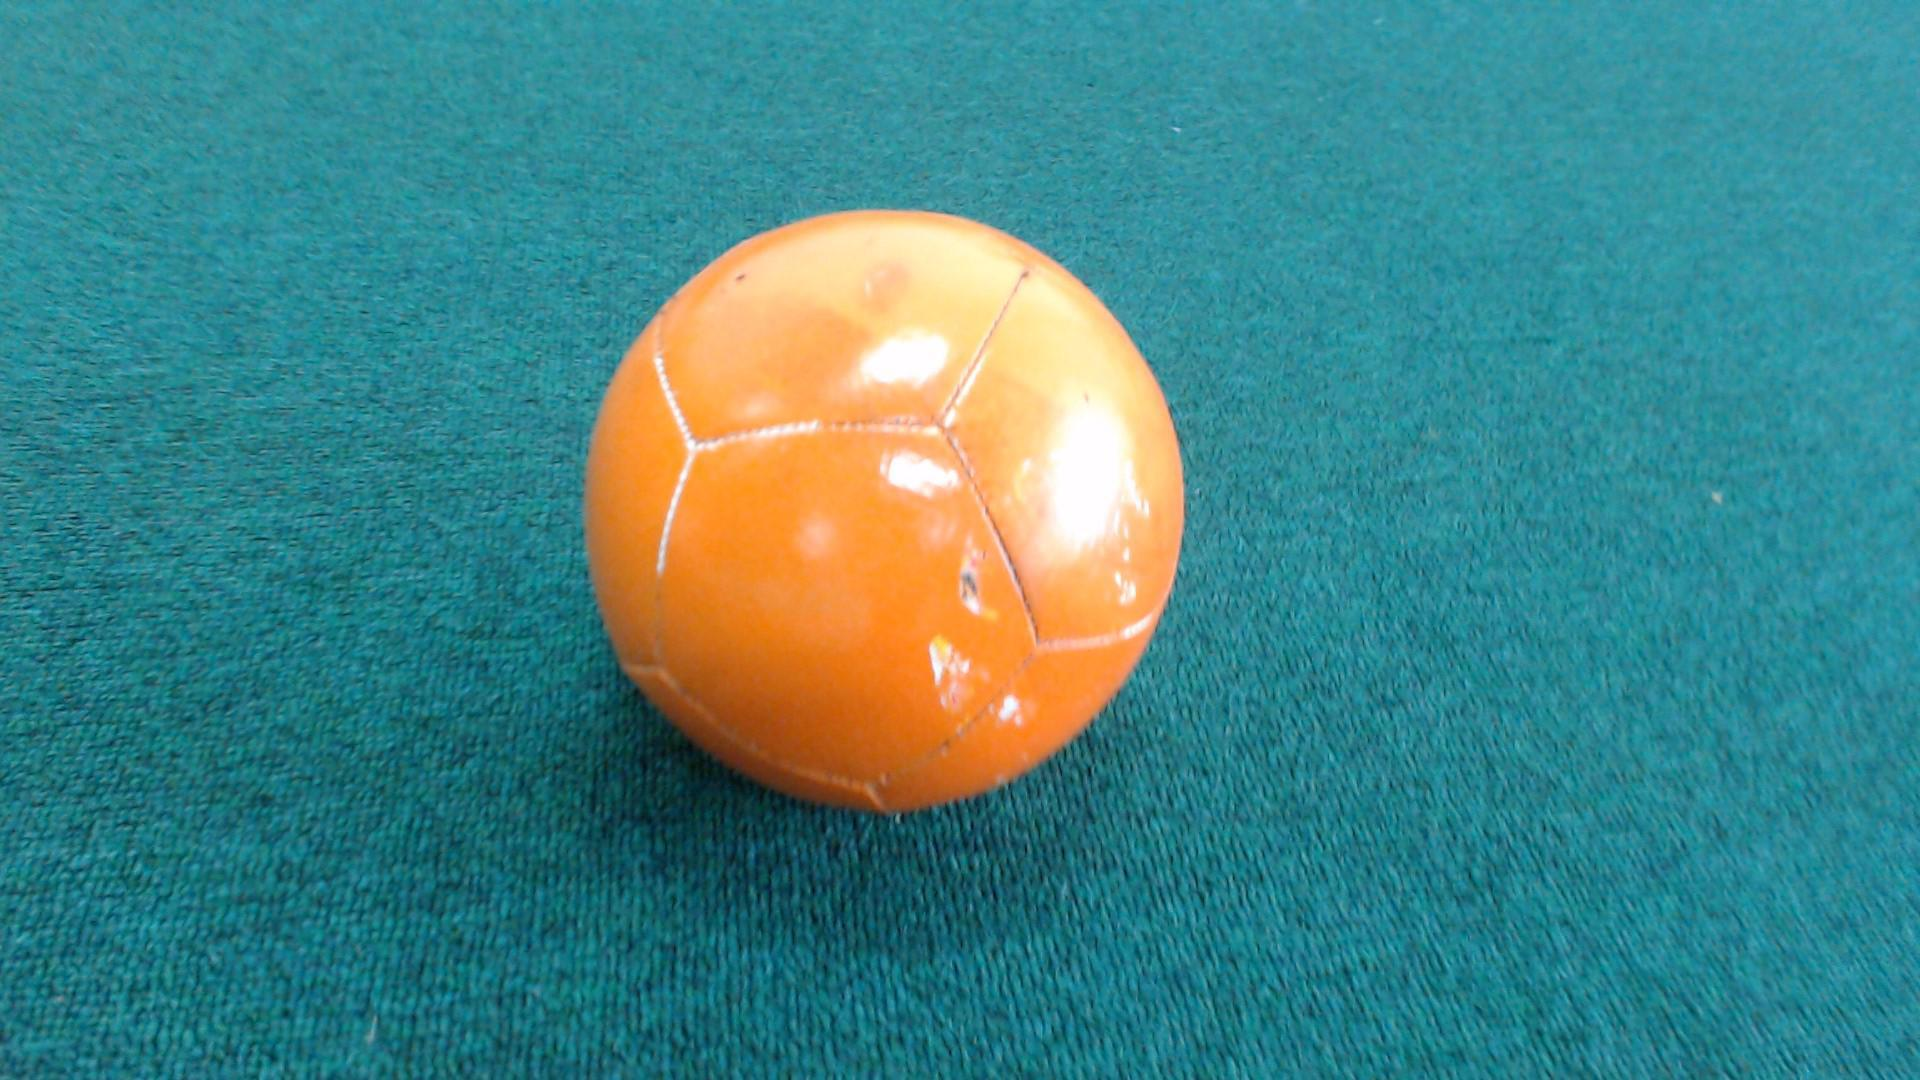bola: (541, 142, 1258, 887)
